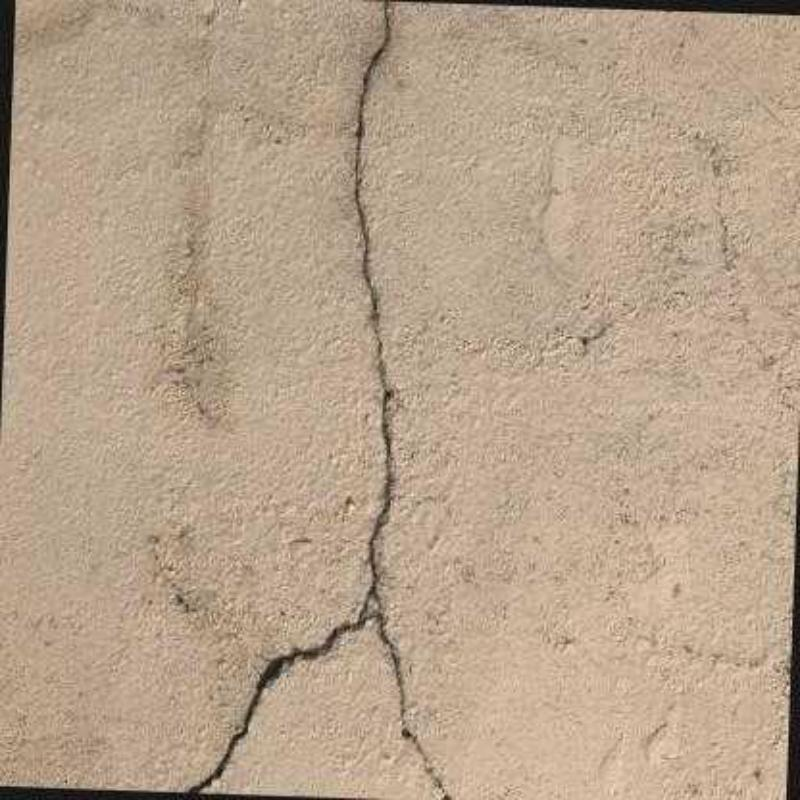pothole: (187, 2, 450, 800)
